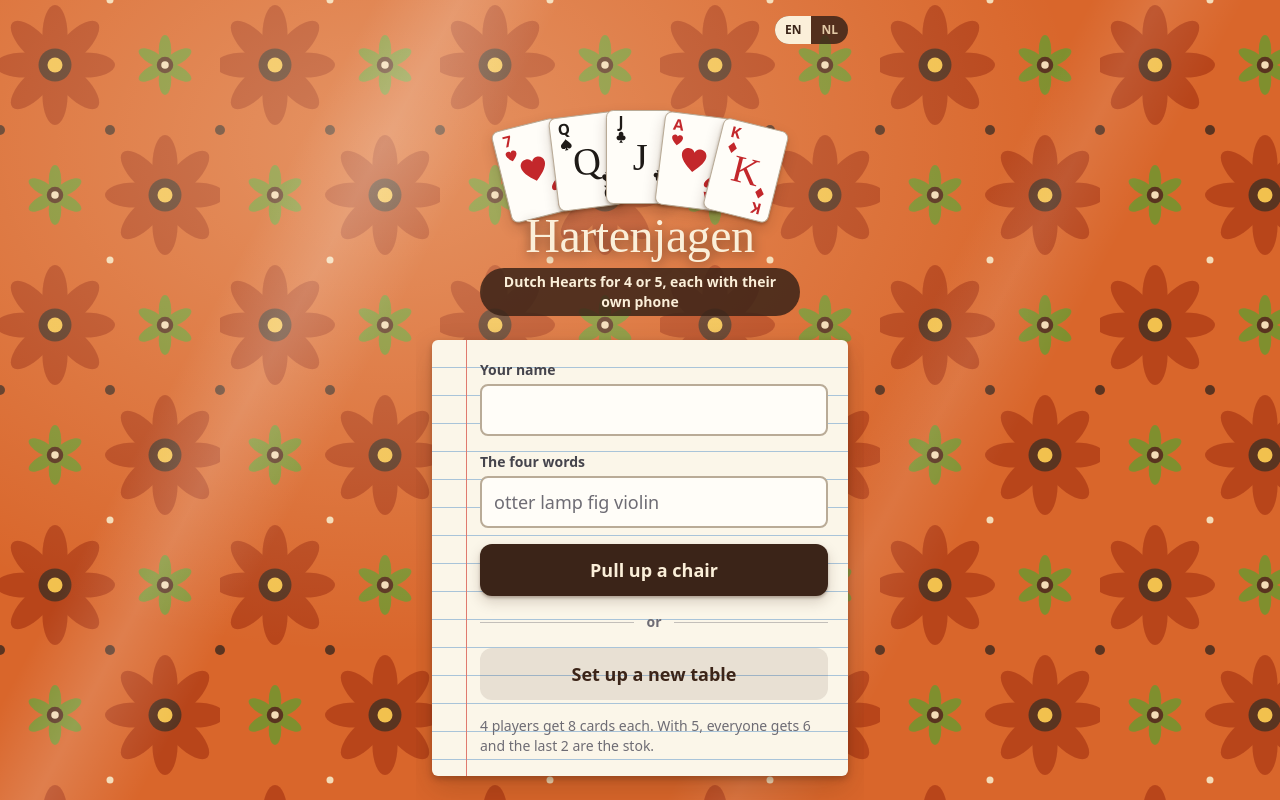
Test: the home form › speaks Dutch when switched
Click the button "nl" at [830, 30], box [812,16,848,44]
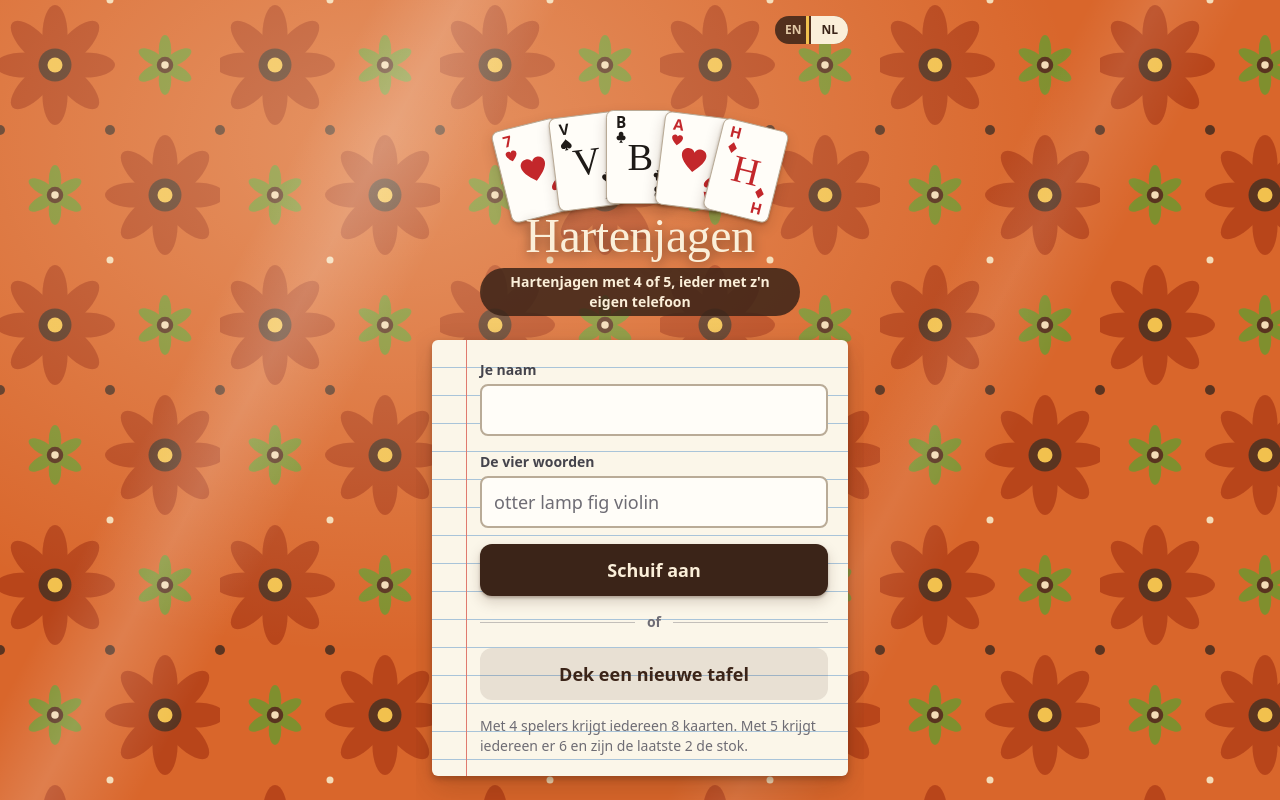
expect the button "Schuif aan" is shown: met, box [480,544,828,596]
